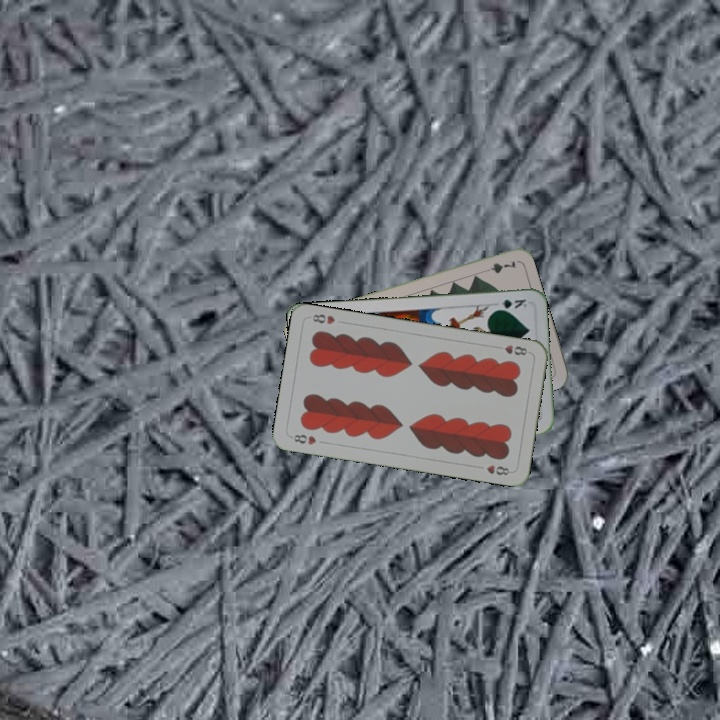G7: (478, 256, 519, 276)
GK: (490, 295, 530, 313)
H8: (287, 430, 319, 447), (500, 341, 530, 358)
